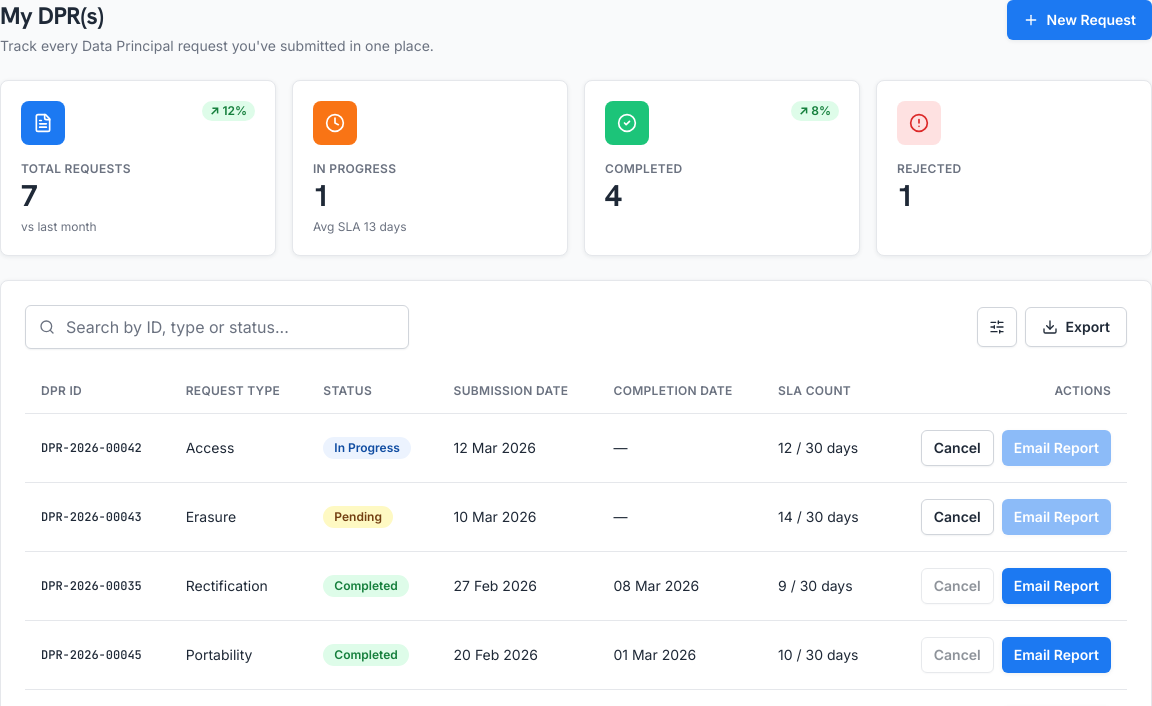
Test: RightsModule › shows an empty state and recovers via Clear search
Type "zzz-no-match-zzz" into the search field named "Search requests".
click(217, 327); type("zzz-no-match-zzz")  # box [25,305,409,349]
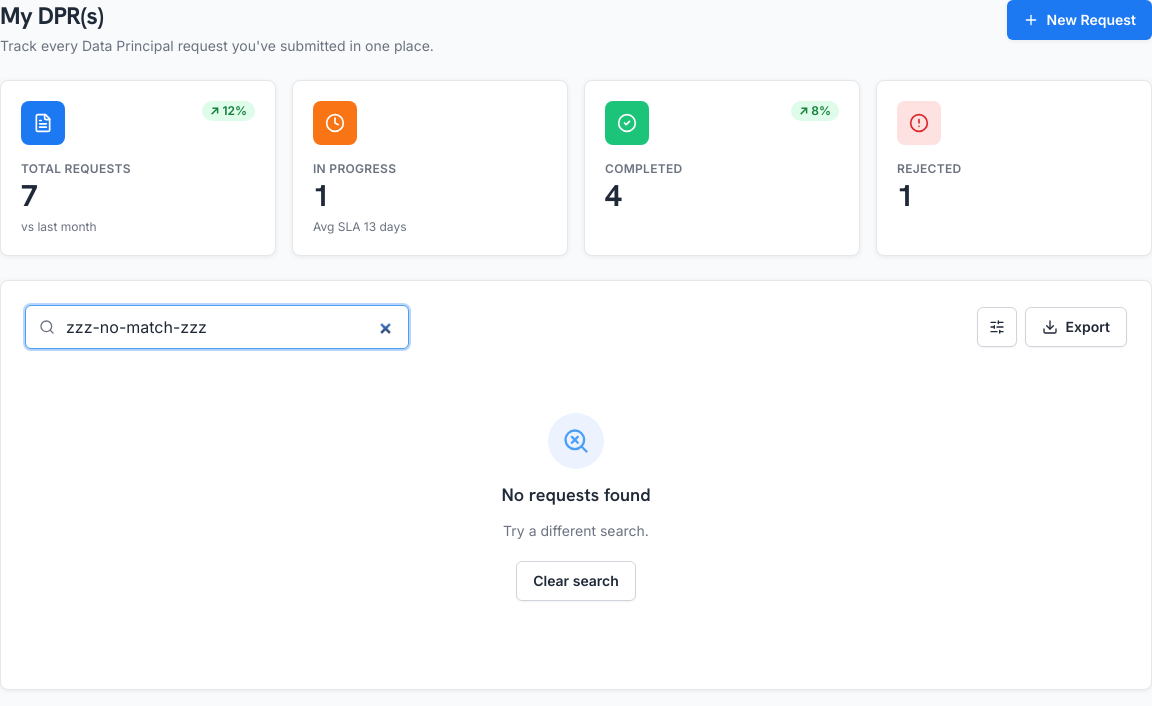
Check: the heading "No requests found" is shown, box [501,481,651,509]
Click the button "Clear search".
click(576, 581)  # box [516,561,636,601]
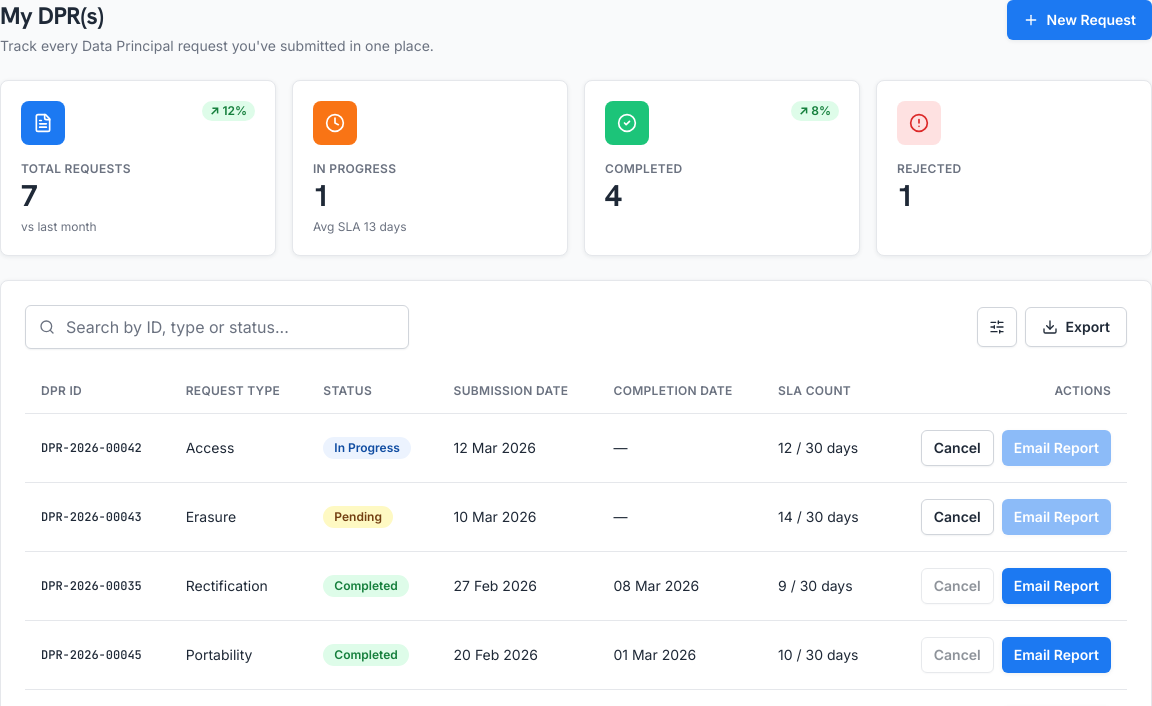
Check: the heading "No requests found" is gone
